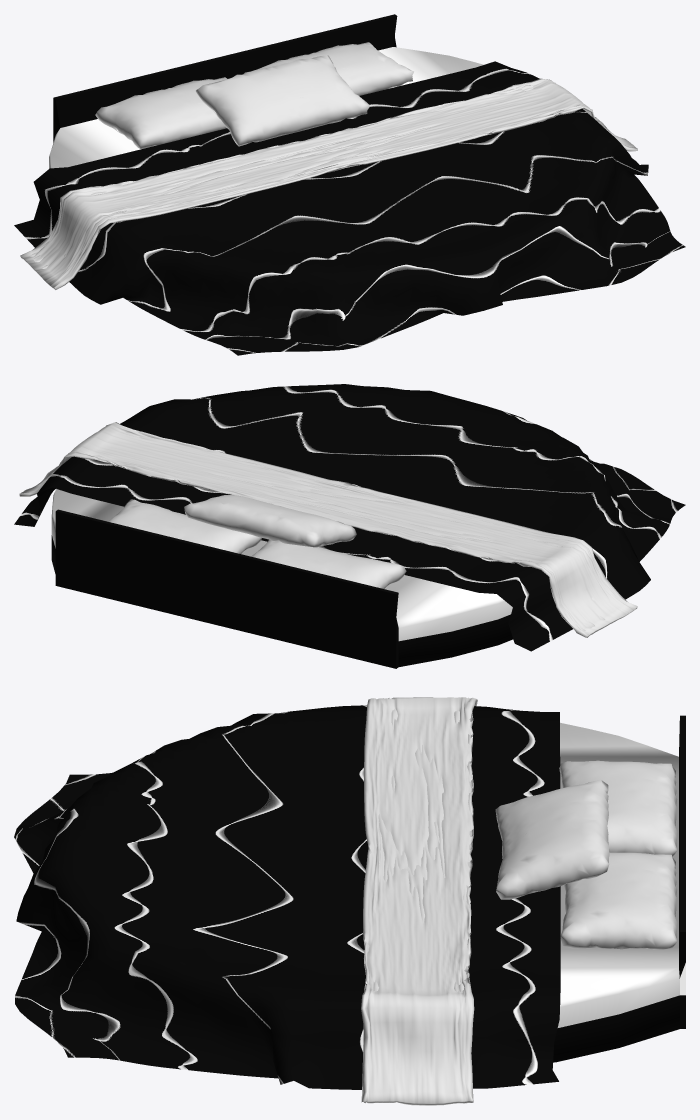
The picture shows the model from 3 angles, top to bottom: view 1: azimuth 30°, elevation 25°; view 2: azimuth 150°, elevation 25°; view 3: azimuth 270°, elevation 25°; orthographic projection. The views are drawn at different scales.
Parts seen in each view (by area): view 1: Bed; view 2: Bed; view 3: Bed.
Part boxes in pixels (x1,y1,x2,y2): Bed: (14, 14, 685, 355); Bed: (14, 384, 685, 668); Bed: (14, 697, 685, 1105).
Size of the model in its own units: 4.76 by 0.7025 by 3.67.
7 materials, 1 textured.
